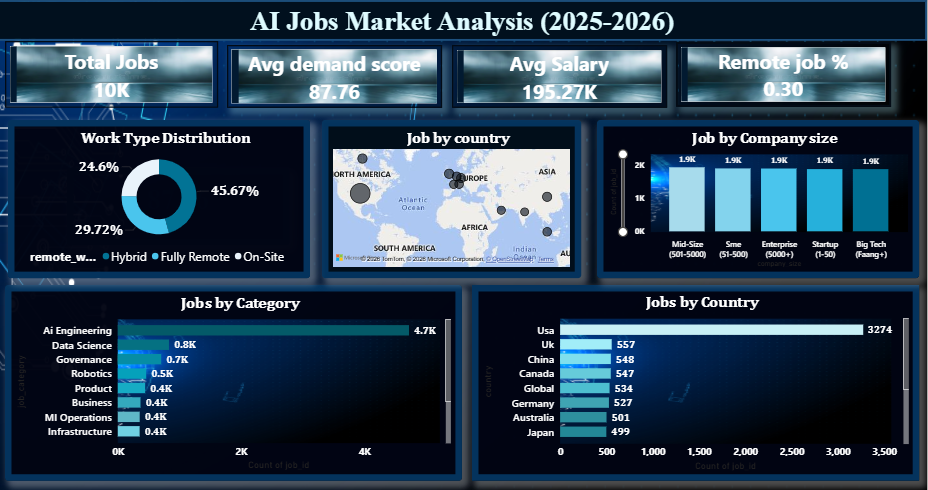

Layout of this report page (visuals, bound fields, positions):
{"tool":"powerbi","page":{"name":"1ST PAGE","canvas":[1435,761],"ordinal":1},"visuals":[{"type":"card","fields":{"Values":["Sheet1.Avg Demand Score"]},"box":[108,262.3,342.5,118.8],"z":0},{"type":"cardVisual","fields":{"Data":["Sheet1.total jobs"]},"box":[12.3,66.3,328.7,103.4],"z":1000},{"type":"clusteredBarChart","title":"Jobs by Category","fields":{"Category":["Sheet1.job_category"],"Y":["CountNonNull(Sheet1.job_id)"]},"box":[12.3,442.8,705.2,302.4],"z":2000},{"type":"map","title":" Job by country","fields":{"Size":["CountNonNull(Sheet1.job_id)"],"Category":["Sheet1.country","Sheet1.city"]},"box":[501.5,188.2,399.6,243.8],"z":3000},{"type":"clusteredBarChart","title":"Jobs by Country","fields":{"Category":["Sheet1.country"],"Y":["CountNonNull(Sheet1.job_id)"]},"box":[732.9,442.8,689.7,302.4],"z":4000},{"type":"donutChart","title":"Work Type Distribution","fields":{"Category":["Sheet1.remote_work"],"Y":["CountNonNull(Sheet1.job_id)"]},"box":[17,188.2,466,243.8],"z":5000},{"type":"clusteredColumnChart","title":"Job by Company size","fields":{"Category":["Sheet1.company_size"],"Y":["CountNonNull(Sheet1.job_id)"]},"box":[925.8,188.2,496.8,243.8],"z":6000},{"type":"cardVisual","fields":{"Data":["Avg(Sheet1.demand_score)"]},"box":[354.9,72.5,331.7,97.2],"z":7000},{"type":"cardVisual","fields":{"Data":["Sheet1.Average Salary"]},"box":[702.1,72.5,331.7,97.2],"z":8000},{"type":"cardVisual","fields":{"Data":["Sheet1.Remote job %"]},"box":[1047.7,67.9,331.7,100.3],"z":9000},{"type":"shape","box":[0,3.1,1435,63.3],"z":14000}]}

Visuals, with their boxes in screenshot pixels (x1, y1, x2, y2), scaled from the page's 1435x761 canvas onto the 928x490 screenshot:
card - Sheet1.Avg Demand Score: Rect(70, 169, 291, 245)
cardVisual - Sheet1.total jobs: Rect(8, 43, 221, 109)
"Jobs by Category" clusteredBarChart: Rect(8, 285, 464, 480)
" Job by country" map: Rect(324, 121, 583, 278)
"Jobs by Country" clusteredBarChart: Rect(474, 285, 920, 480)
"Work Type Distribution" donutChart: Rect(11, 121, 312, 278)
"Job by Company size" clusteredColumnChart: Rect(599, 121, 920, 278)
cardVisual - Avg(Sheet1.demand_score): Rect(230, 47, 444, 109)
cardVisual - Sheet1.Average Salary: Rect(454, 47, 669, 109)
cardVisual - Sheet1.Remote job %: Rect(678, 44, 892, 108)
shape: Rect(0, 2, 927, 43)
